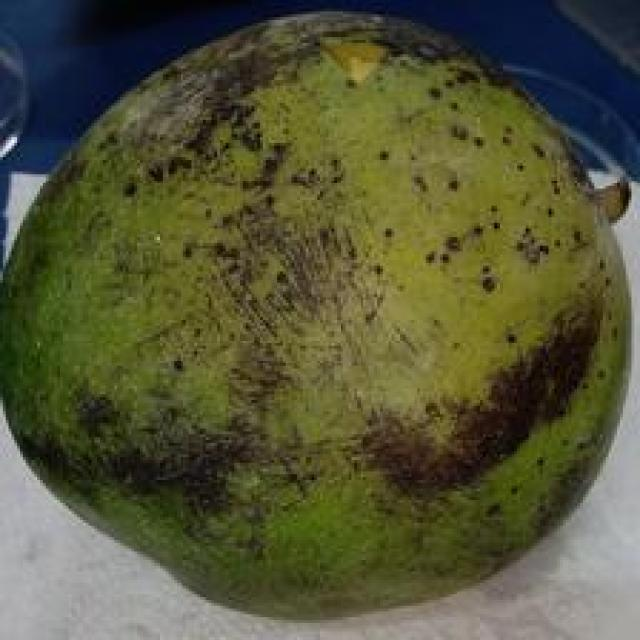Mango: (3, 12, 634, 620)
